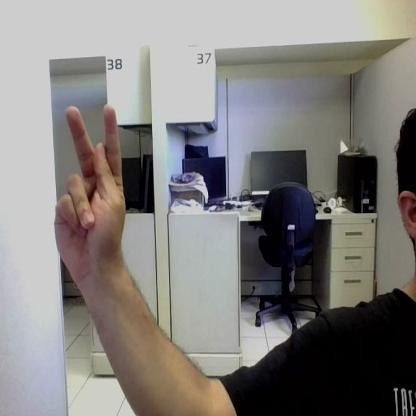K: (54, 106, 126, 276)
